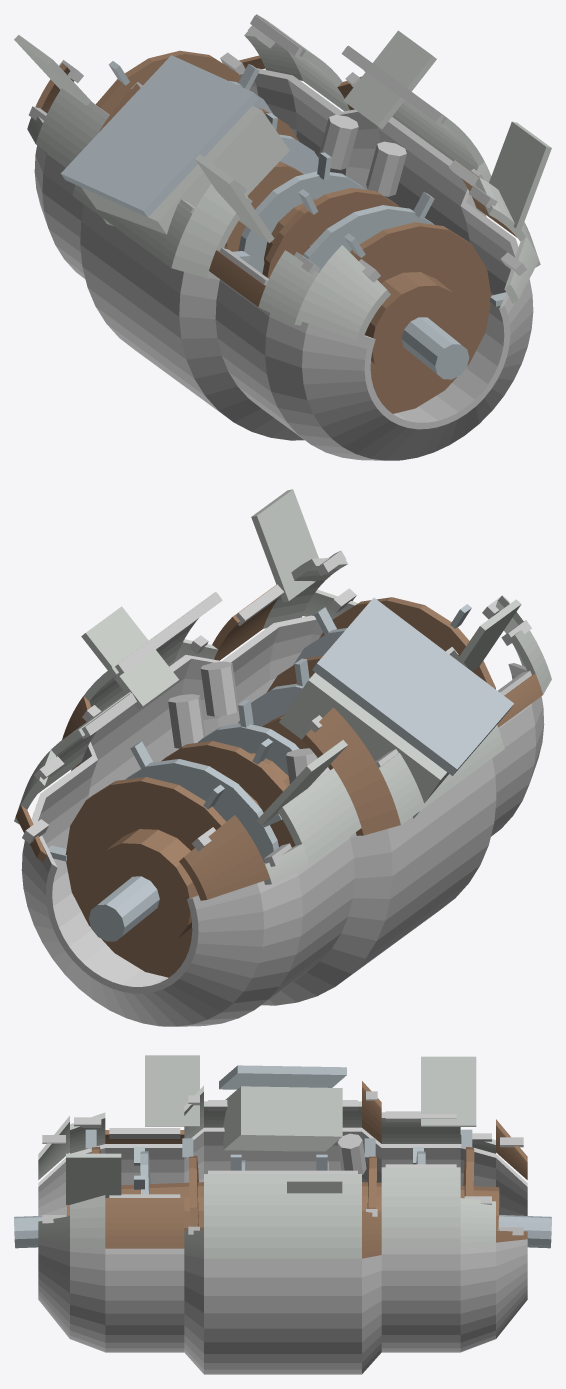
The model's file is body.obj.
The picture shows the model from 3 angles, top to bottom: view 1: azimuth 30°, elevation 25°; view 2: azimuth 150°, elevation 25°; view 3: azimuth 270°, elevation 25°; orthographic projection. The views are drawn at different scales.
Size of the model in its own units: 4.16 by 3.82 by 6.82.
